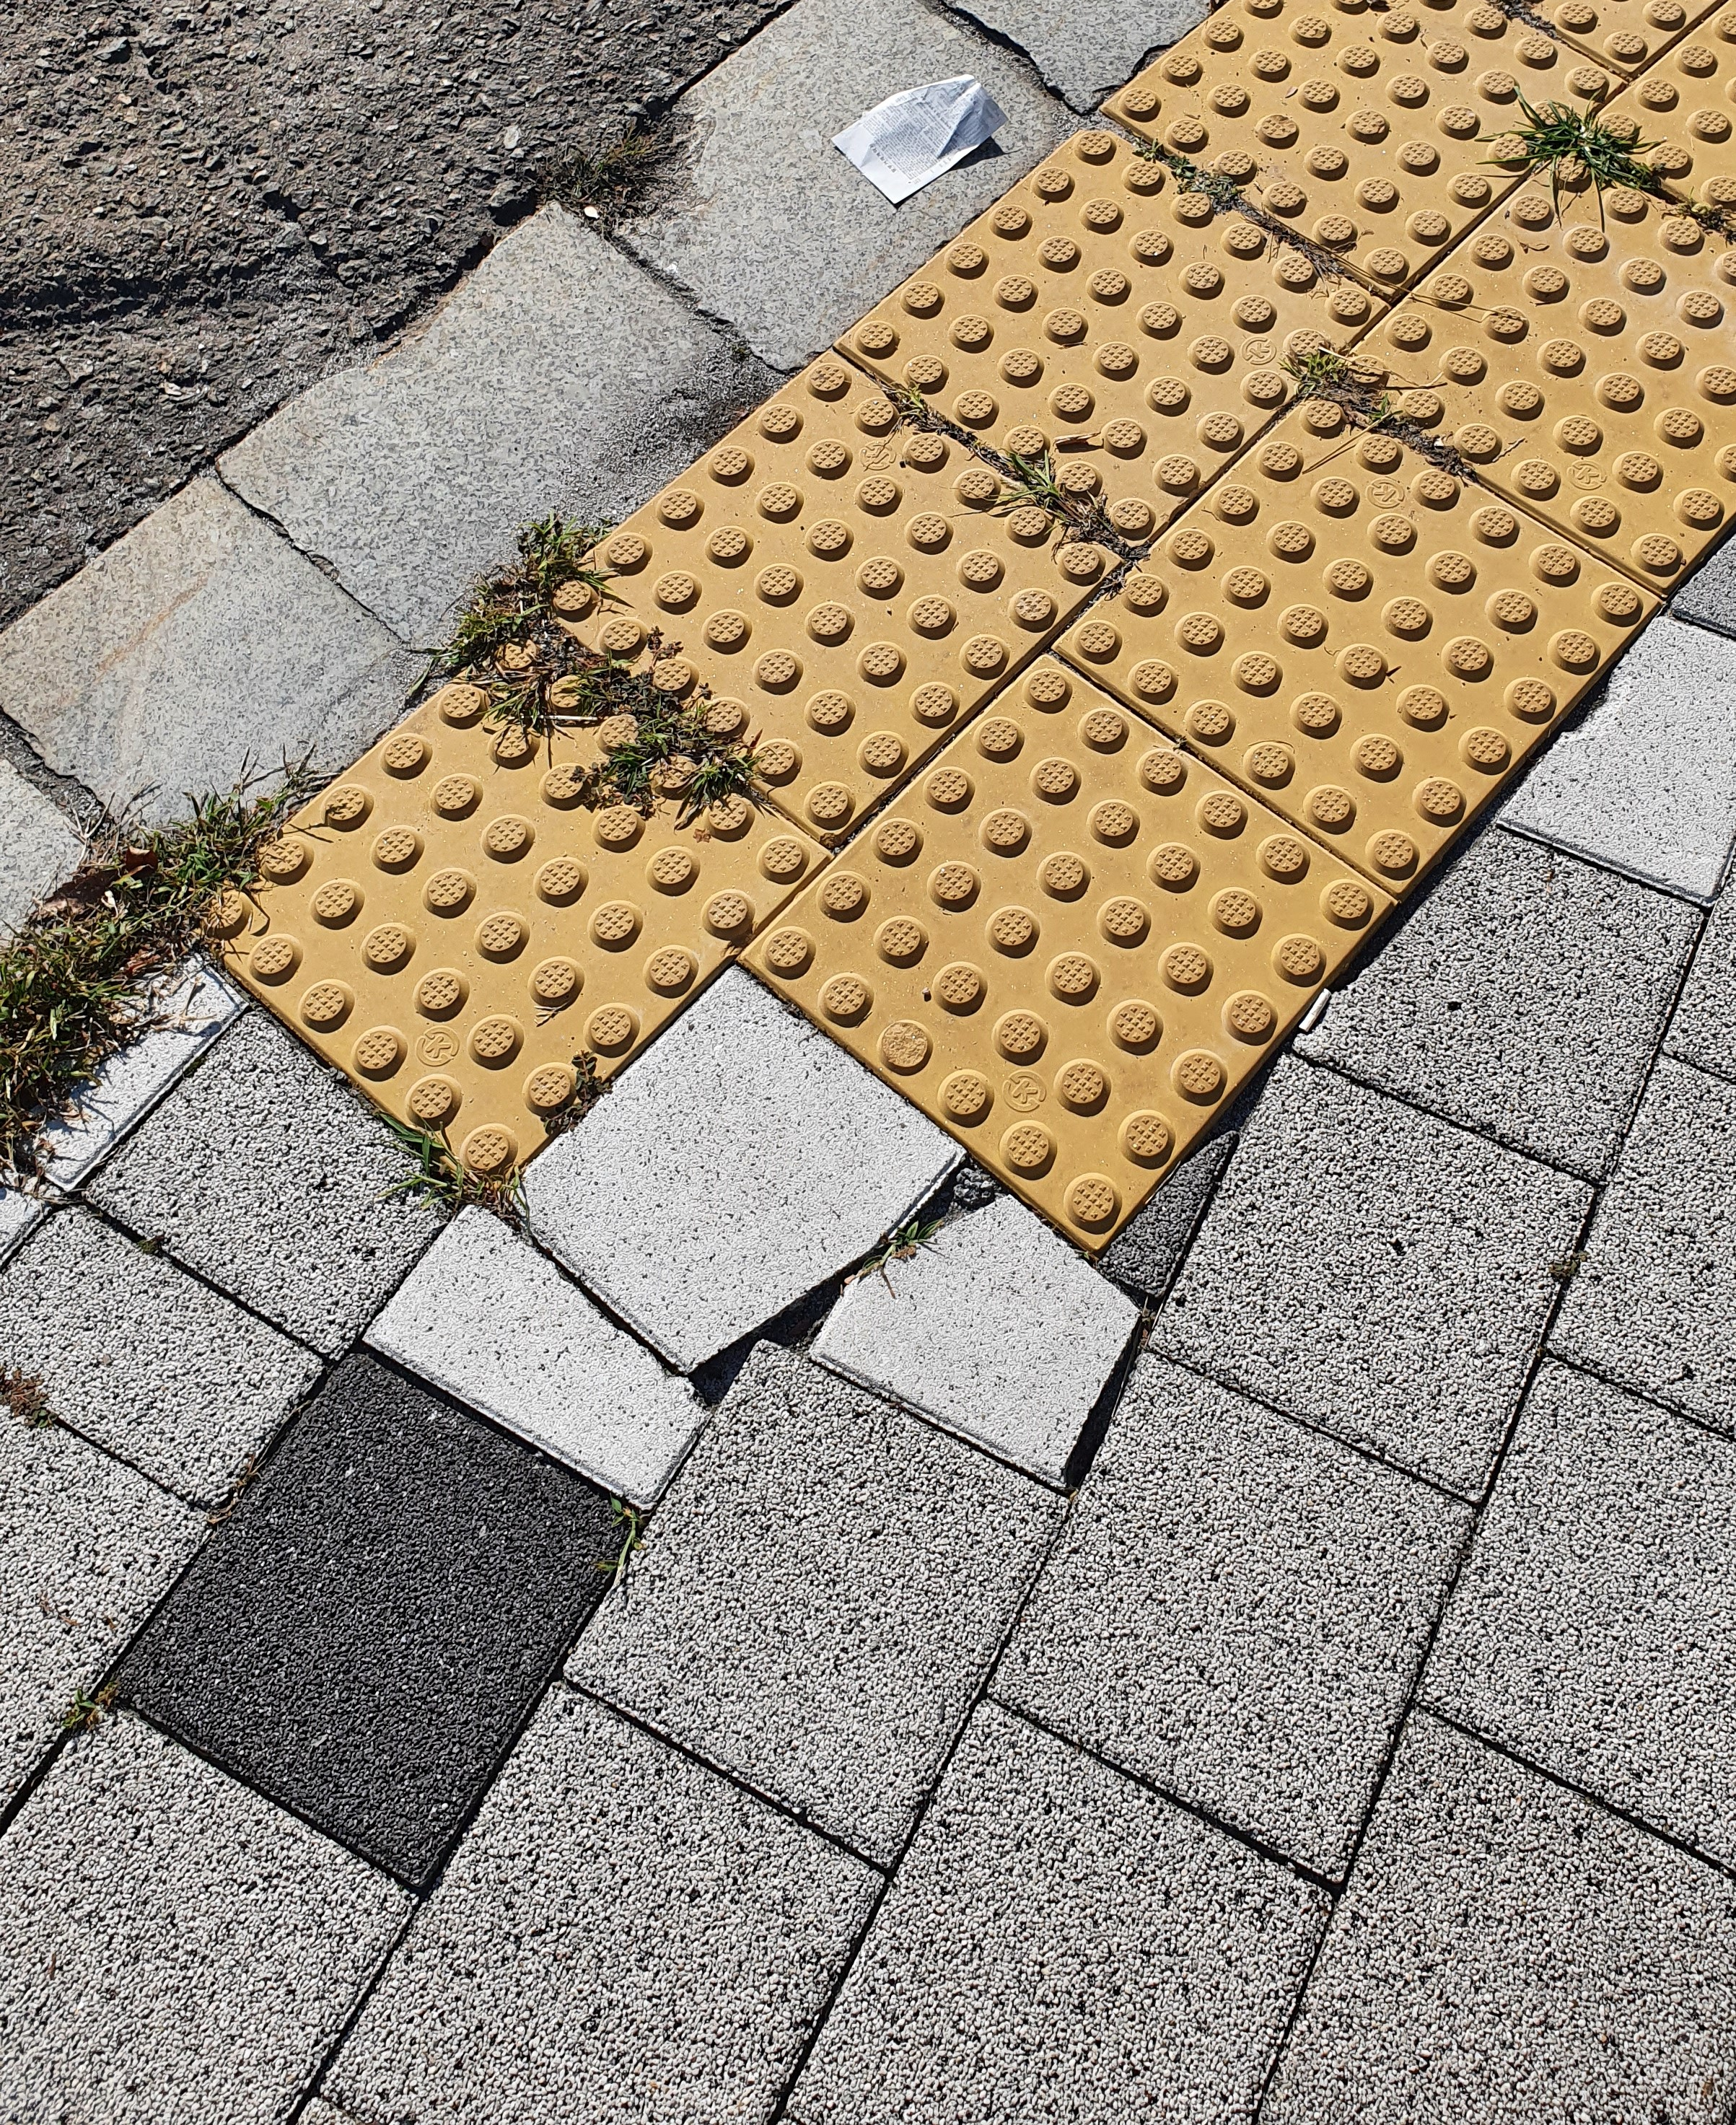warningBlock: (1046, 445, 1597, 868), (789, 755, 1337, 1174), (252, 734, 690, 1045), (617, 413, 1034, 704), (963, 154, 1302, 492), (1466, 196, 1736, 612), (1200, 7, 1577, 233)
